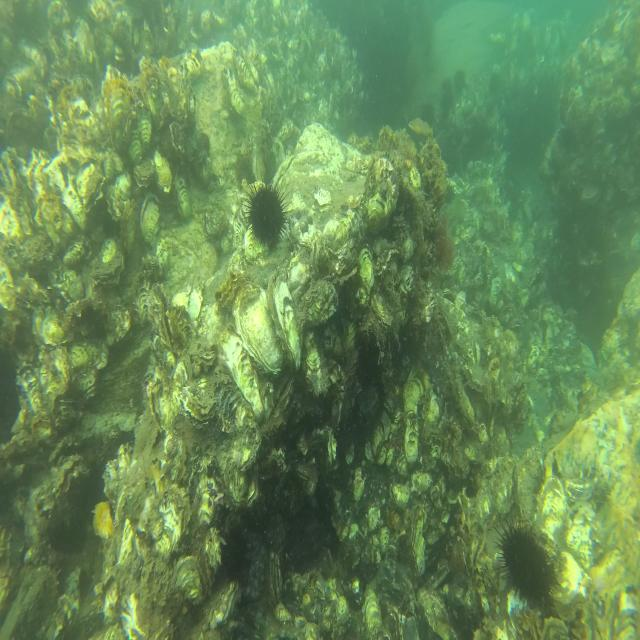echinus: (495, 512, 563, 614), (244, 178, 291, 255), (212, 517, 256, 598)
